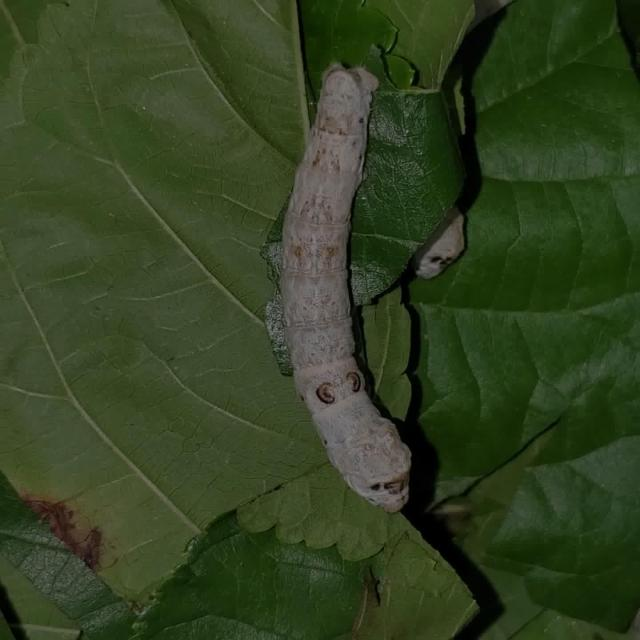Healthy: (267, 51, 433, 515)
